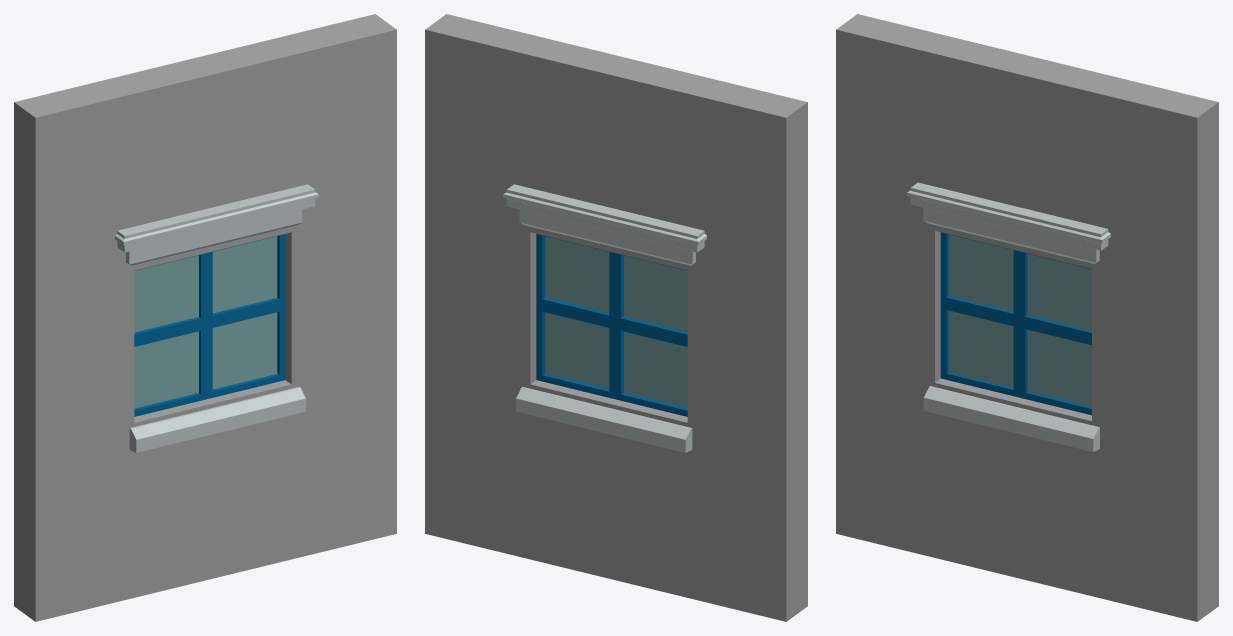
File: NY_Street_Window_3M_01.fbx
3 renders of one model, left to right at view 1: azimuth 30°, elevation 25°; view 2: azimuth 150°, elevation 25°; view 3: azimuth 330°, elevation 25°, orthographic.
Visible parts, largest first — view 1: NY_Street_Window_3M_01; view 2: NY_Street_Window_3M_01; view 3: NY_Street_Window_3M_01.
Boxes of the visible parts, x1,y1,x2,y2 form: NY_Street_Window_3M_01: [14, 14, 396, 621]; NY_Street_Window_3M_01: [425, 14, 807, 621]; NY_Street_Window_3M_01: [836, 14, 1218, 621].
Bounding box in the file's own units: 300 × 400 × 55.68.
